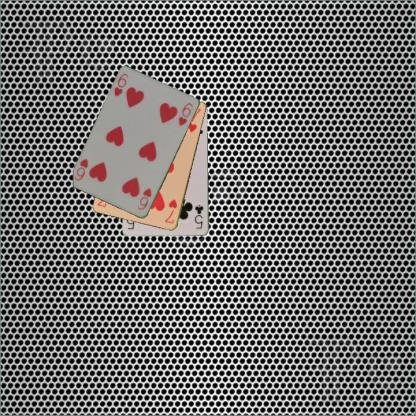5c: (192, 202, 204, 230)
6h: (112, 71, 130, 98), (135, 186, 153, 212)
7h: (162, 197, 178, 225)
